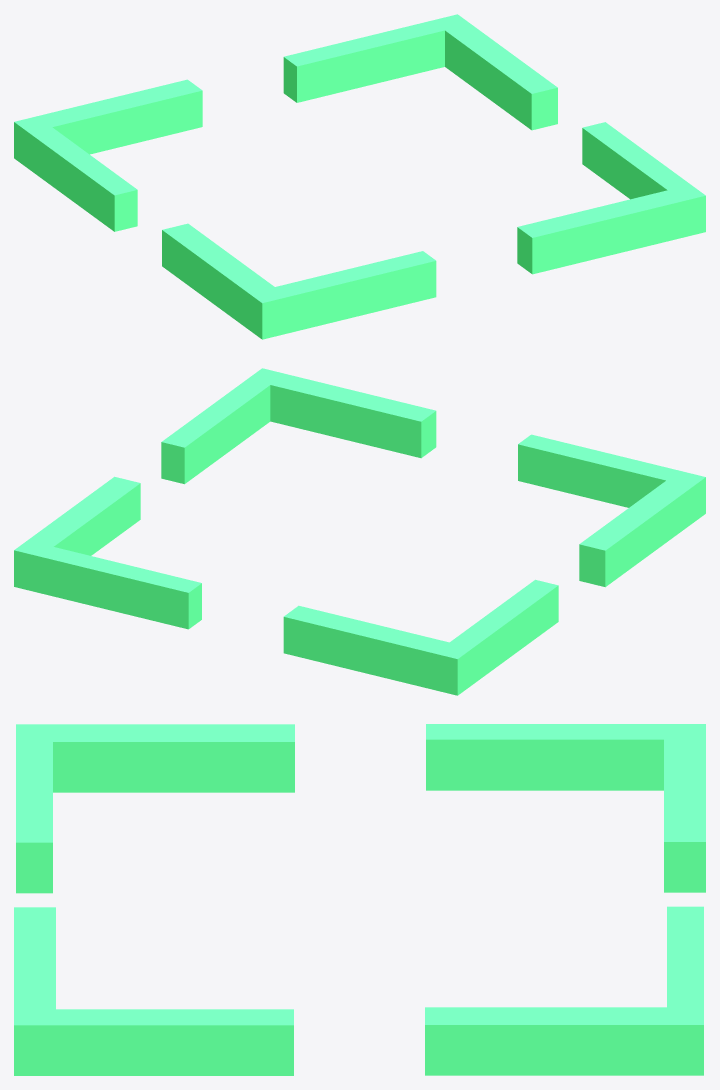
The model's file is target.gltf.
3 views of the same model, one above another, from view 1: azimuth 30°, elevation 25°; view 2: azimuth 150°, elevation 25°; view 3: azimuth 270°, elevation 25° (orthographic). The views are drawn at different scales.
Parts seen in each view (by area): view 1: Cube.001; view 2: Cube.001; view 3: Cube.001.
Boxes of the visible parts, bbox=[...] form: Cube.001: bbox=[14, 14, 705, 339]; Cube.001: bbox=[14, 368, 705, 695]; Cube.001: bbox=[14, 724, 705, 1075].
Bounding box in the file's own units: 7.64 × 0.6 × 7.42.
